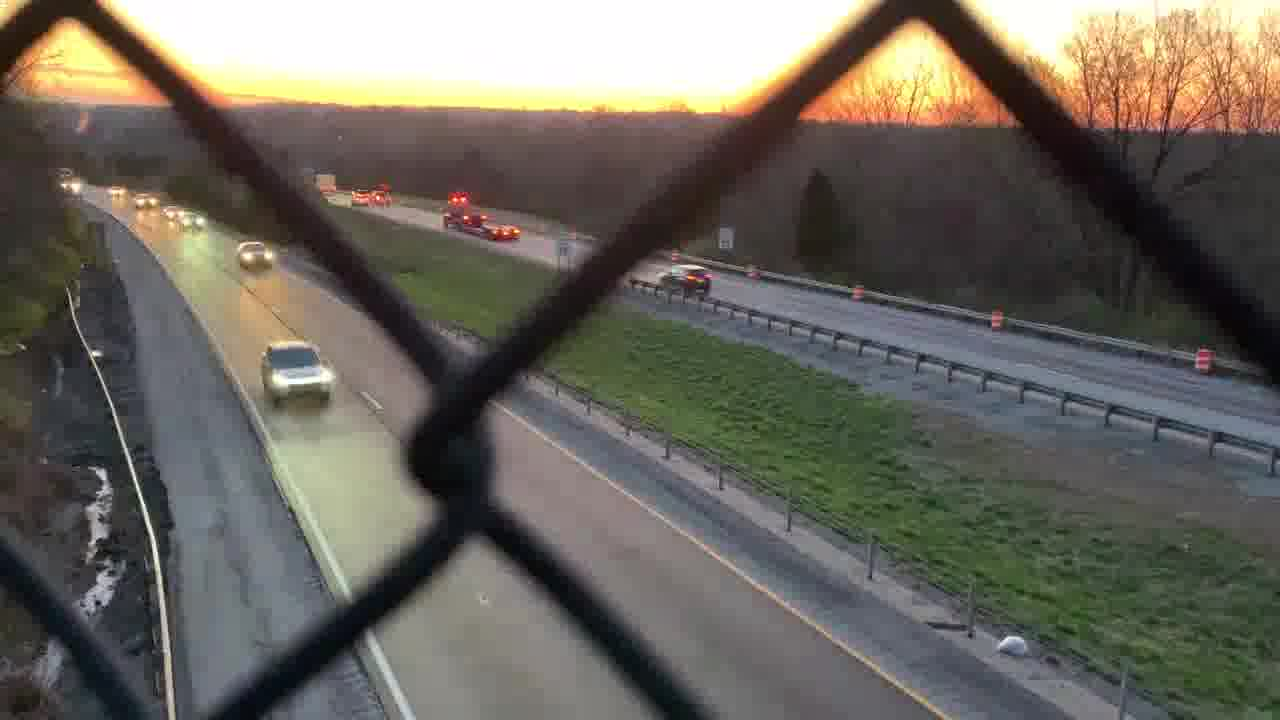largeCar: (256, 337, 337, 400)
